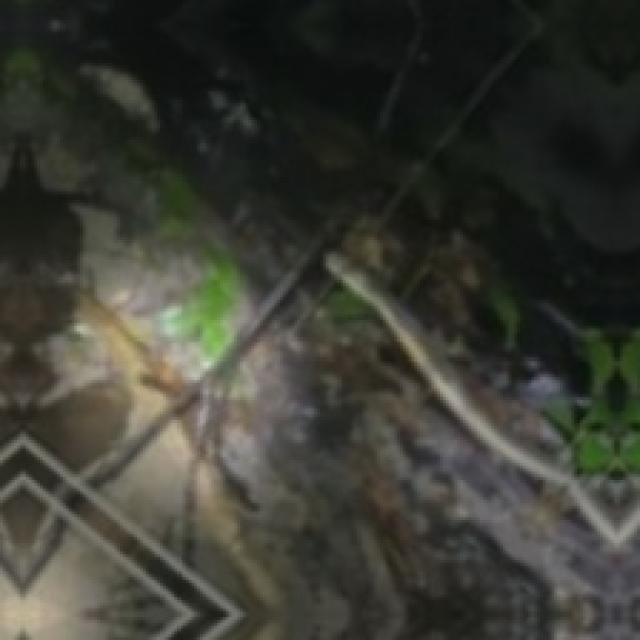king cobra: (326, 251, 637, 546)
